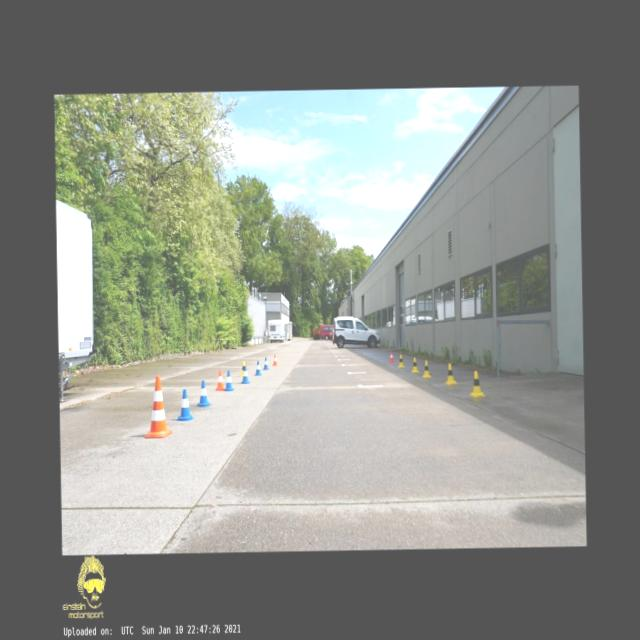blue_cone: (175, 388, 194, 421), (197, 380, 211, 406), (224, 370, 234, 391), (241, 365, 249, 384), (254, 360, 261, 375), (262, 356, 268, 369)
large_orange_cone: (143, 376, 172, 438)
orange_cone: (215, 370, 224, 390), (388, 351, 393, 363), (272, 354, 277, 365)
yellow_cone: (468, 371, 484, 396), (444, 363, 456, 384), (422, 360, 431, 377), (412, 357, 418, 372), (240, 361, 245, 376), (398, 354, 403, 367)
